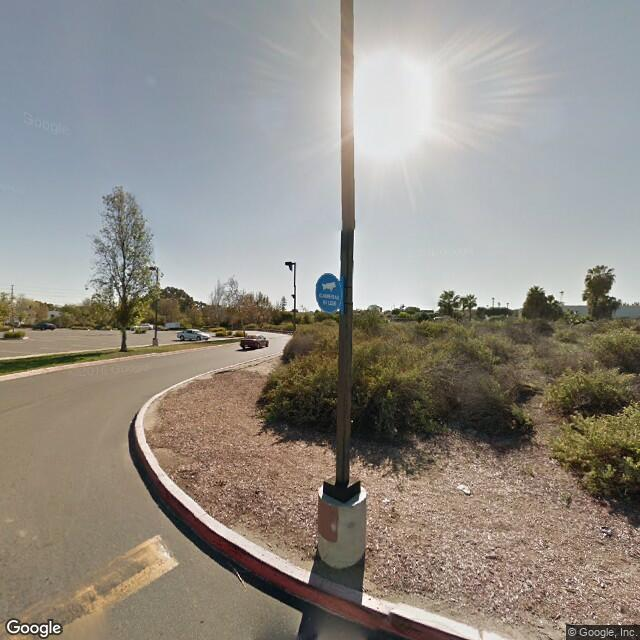litter: (457, 483, 472, 494), (598, 525, 613, 536), (381, 496, 391, 504)
